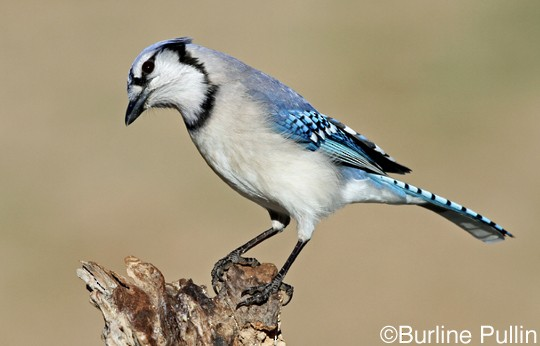bird: (127, 39, 483, 260)
